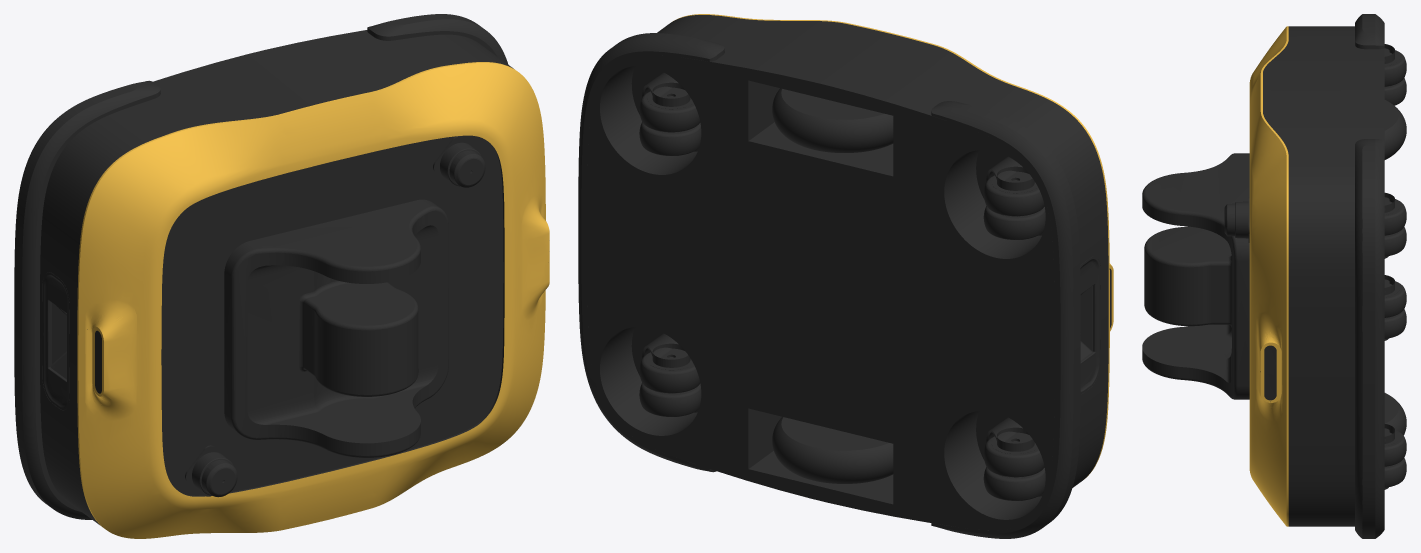
3 renders of one model, left to right at view 1: azimuth 30°, elevation 25°; view 2: azimuth 150°, elevation 25°; view 3: azimuth 270°, elevation 25°, orthographic. The views are drawn at different scales.
Parts seen in each view (by area): view 1: base_link; view 2: base_link; view 3: base_link.
Boxes of the visible parts, x1=… form: base_link: x1=14, y1=14, x2=549, y2=538; base_link: x1=578, y1=14, x2=1113, y2=538; base_link: x1=1142, y1=14, x2=1406, y2=538.
Bounding box in the file's own units: 0.6826 × 0.5589 × 0.357.
Materials: 1 (1 with a texture image).
